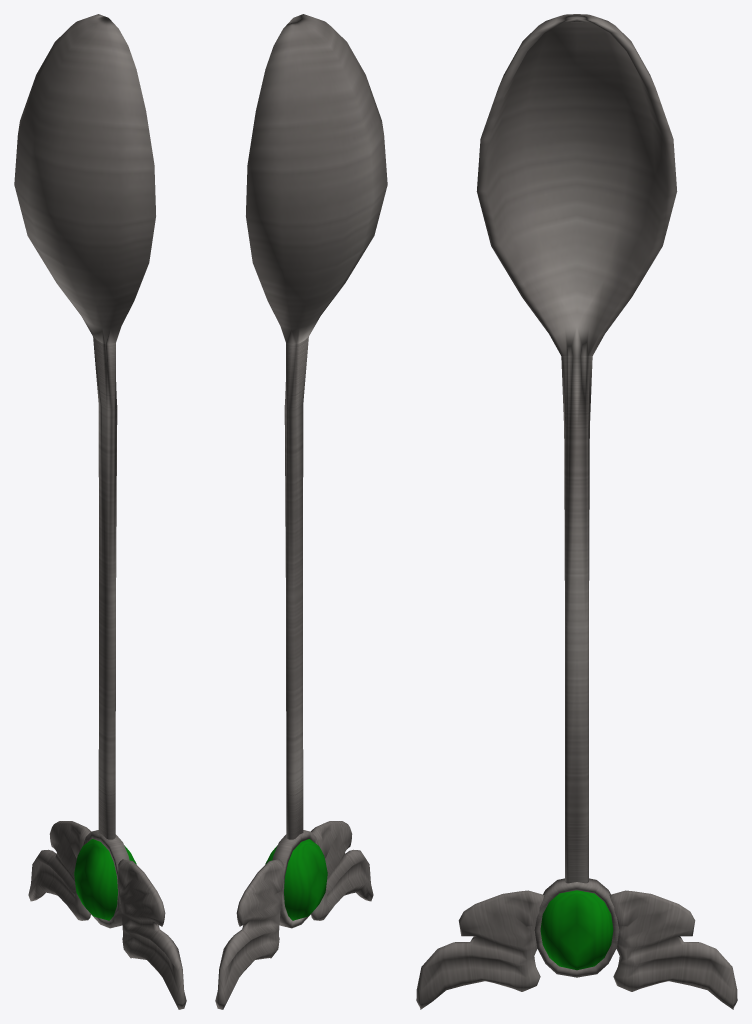
File: WandObject_3d_005.fbx
3 views of the same model, side by side, from view 1: azimuth 30°, elevation 25°; view 2: azimuth 150°, elevation 25°; view 3: azimuth 270°, elevation 25° (orthographic). The views are drawn at different scales.
Visible parts, largest first — view 1: GeoSphere009; view 2: GeoSphere009; view 3: GeoSphere009.
Boxes of the visible parts, <box> form: GeoSphere009: <box>14,14,186,1009</box>; GeoSphere009: <box>215,14,387,1009</box>; GeoSphere009: <box>416,14,737,1009</box>.
Size of the model in its own units: 0.6799 by 5.89 by 1.73.
